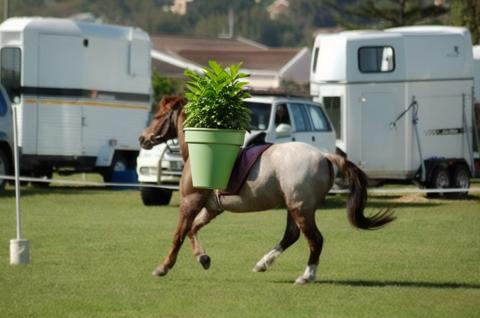car: (131, 93, 345, 206)
horse: (138, 93, 397, 289)
pottedplant: (182, 57, 251, 196)
